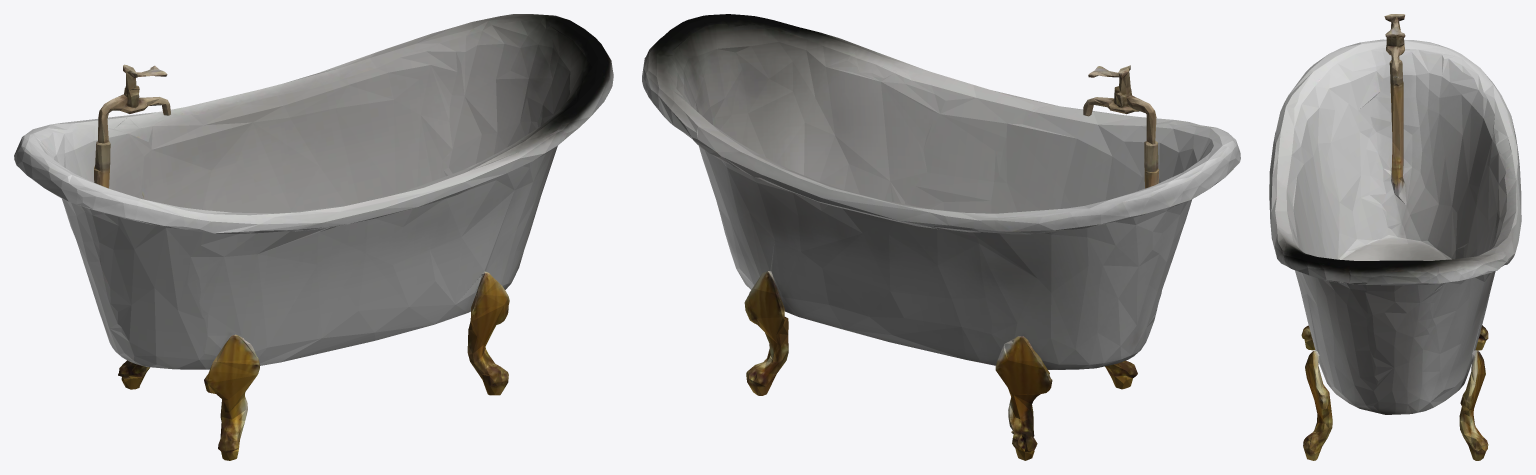
File: bathtub.glb
The picture shows the model from 3 angles, left to right: view 1: azimuth 30°, elevation 25°; view 2: azimuth 150°, elevation 25°; view 3: azimuth 270°, elevation 25°; orthographic projection. The views are drawn at different scales.
Visible parts, largest first — view 1: world; view 2: world; view 3: world.
Boxes of the visible parts, x1,y1,x2,y2 form: world: (14,14,613,460); world: (642,14,1240,460); world: (1269,14,1521,460).
Bounding box in the file's own units: 1 × 0.6322 × 0.4619.
1 material, 1 textured.
